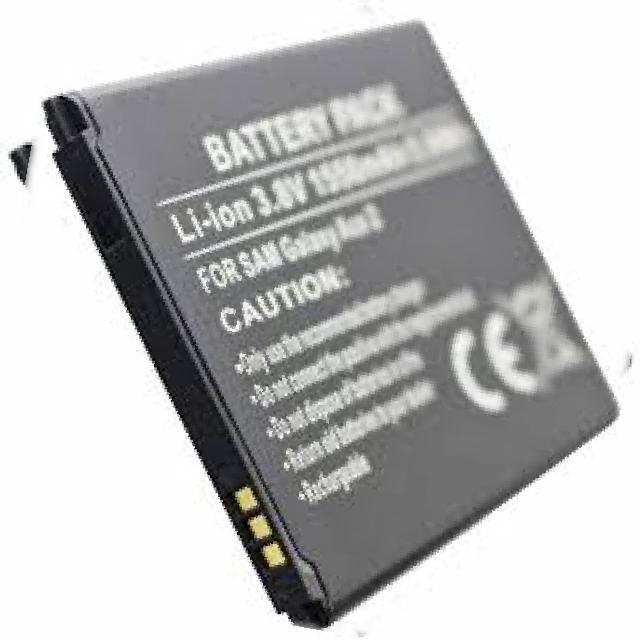Battery: (43, 0, 622, 640)
